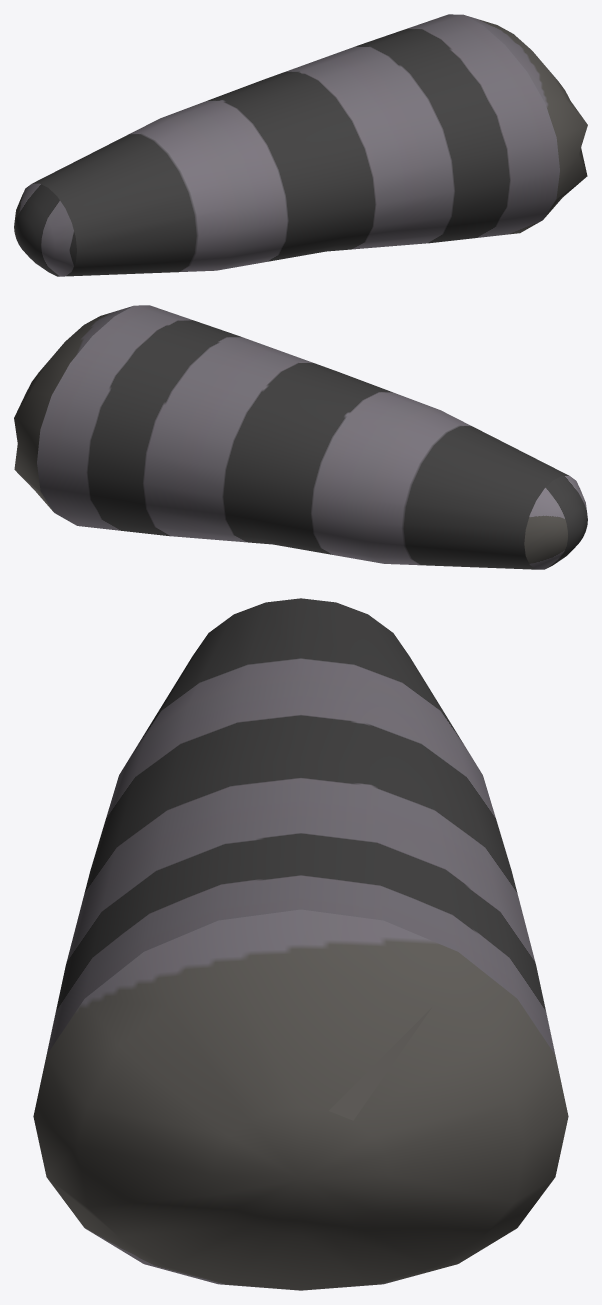
Rendered from cha_cat_rightarm.obj.
The picture shows the model from 3 angles, top to bottom: view 1: azimuth 30°, elevation 25°; view 2: azimuth 150°, elevation 25°; view 3: azimuth 270°, elevation 25°; orthographic projection. The views are drawn at different scales.
Visible parts, largest first — view 1: rightarm; view 2: rightarm; view 3: rightarm.
Part boxes in pixels (box(x1,y1,x2,y2)): rightarm: box(14, 14, 587, 276); rightarm: box(14, 305, 587, 569); rightarm: box(33, 598, 568, 1290).
Bounding box in the file's own units: 0.559 × 0.1963 × 0.2415.
Materials: 1 (1 with a texture image).
